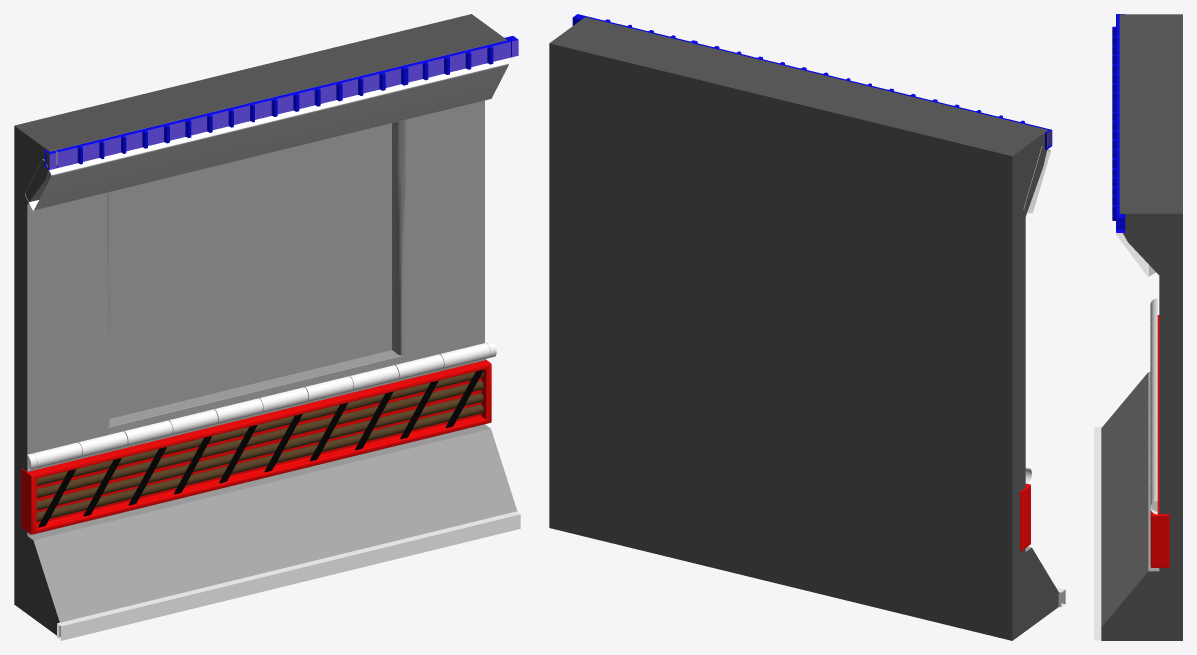
File: Base_Wall_Type_3_high.fbx
3 views of the same model, side by side, from view 1: azimuth 30°, elevation 25°; view 2: azimuth 150°, elevation 25°; view 3: azimuth 270°, elevation 25° (orthographic). The views are drawn at different scales.
Visible parts, largest first — view 1: polySurface242, polySurface83, polySurface145, polySurface35, polySurface149, polySurface231; view 2: polySurface242, polySurface35; view 3: polySurface242, polySurface35, polySurface231, polySurface149, polySurface83, polySurface145.
Part boxes in pixels (x1,y1,x2,y2): polySurface242: (14,14,517,637); polySurface83: (21,359,491,534); polySurface145: (25,58,508,210); polySurface35: (44,36,518,169); polySurface149: (57,511,520,640); polySurface231: (27,341,496,470); polySurface242: (549,17,1058,640); polySurface35: (572,14,1052,149); polySurface242: (1101,14,1182,640); polySurface35: (1112,14,1125,232); polySurface231: (1150,298,1157,514); polySurface149: (1094,427,1101,640); polySurface83: (1150,315,1169,567); polySurface145: (1116,232,1155,276).
Bounding box in the file's own units: 288 × 280 × 52.71.
